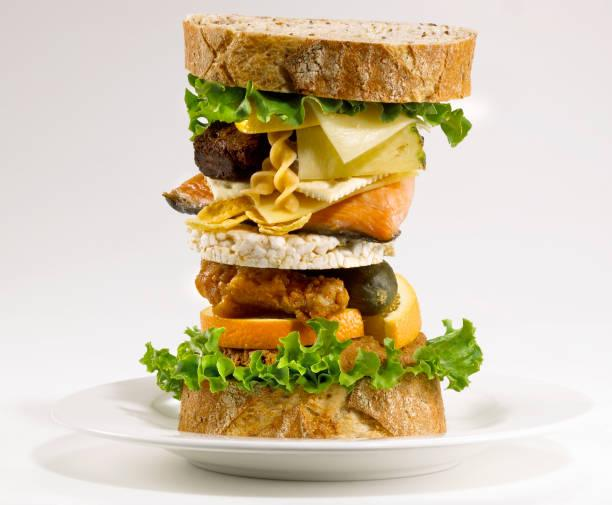organic: (182, 14, 472, 98), (180, 353, 439, 439), (279, 97, 433, 172), (207, 328, 430, 371), (202, 264, 344, 319), (211, 172, 401, 208), (195, 239, 385, 270), (213, 15, 446, 40), (192, 120, 269, 181), (224, 39, 297, 87), (178, 382, 232, 433), (245, 82, 306, 127), (185, 24, 218, 76), (183, 86, 220, 132), (198, 352, 233, 392), (169, 175, 211, 206), (201, 244, 262, 265), (173, 357, 204, 391), (220, 348, 271, 368), (277, 330, 306, 362)
